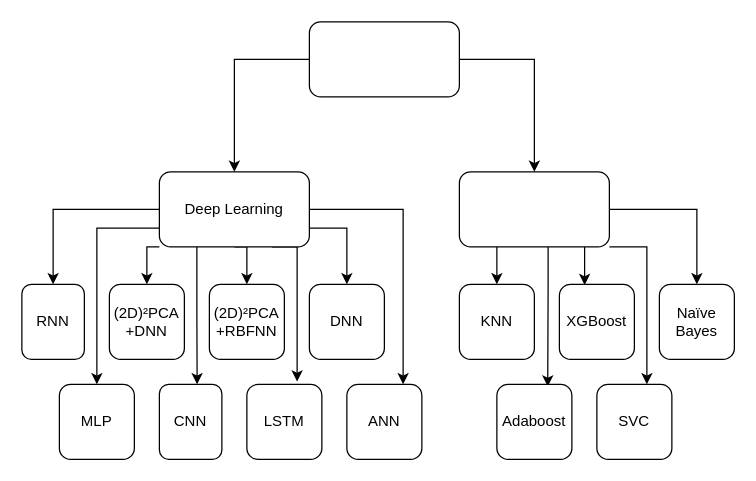
Some shapes in this 756 by 481 pixel diagram are drawn without their labels. The centre of each missing label's shape, as x and y in pixels:
Machine Learning: (533,209)
Stock Market Prediction: (383,59)
